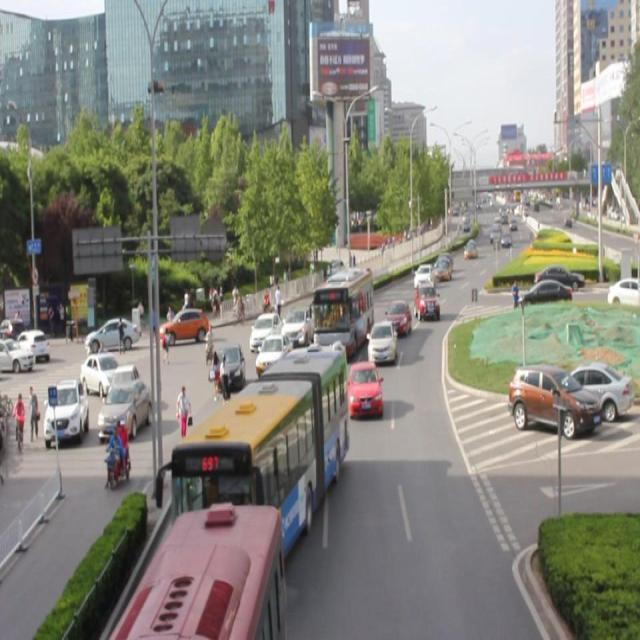car: (253, 363, 297, 423), (346, 358, 381, 417), (211, 337, 245, 392), (255, 334, 294, 375), (248, 309, 281, 354), (366, 318, 397, 365), (280, 303, 313, 346), (414, 280, 438, 320), (384, 298, 409, 334), (412, 262, 432, 290)
van: (173, 347, 346, 541), (136, 507, 284, 640), (312, 268, 371, 352)
